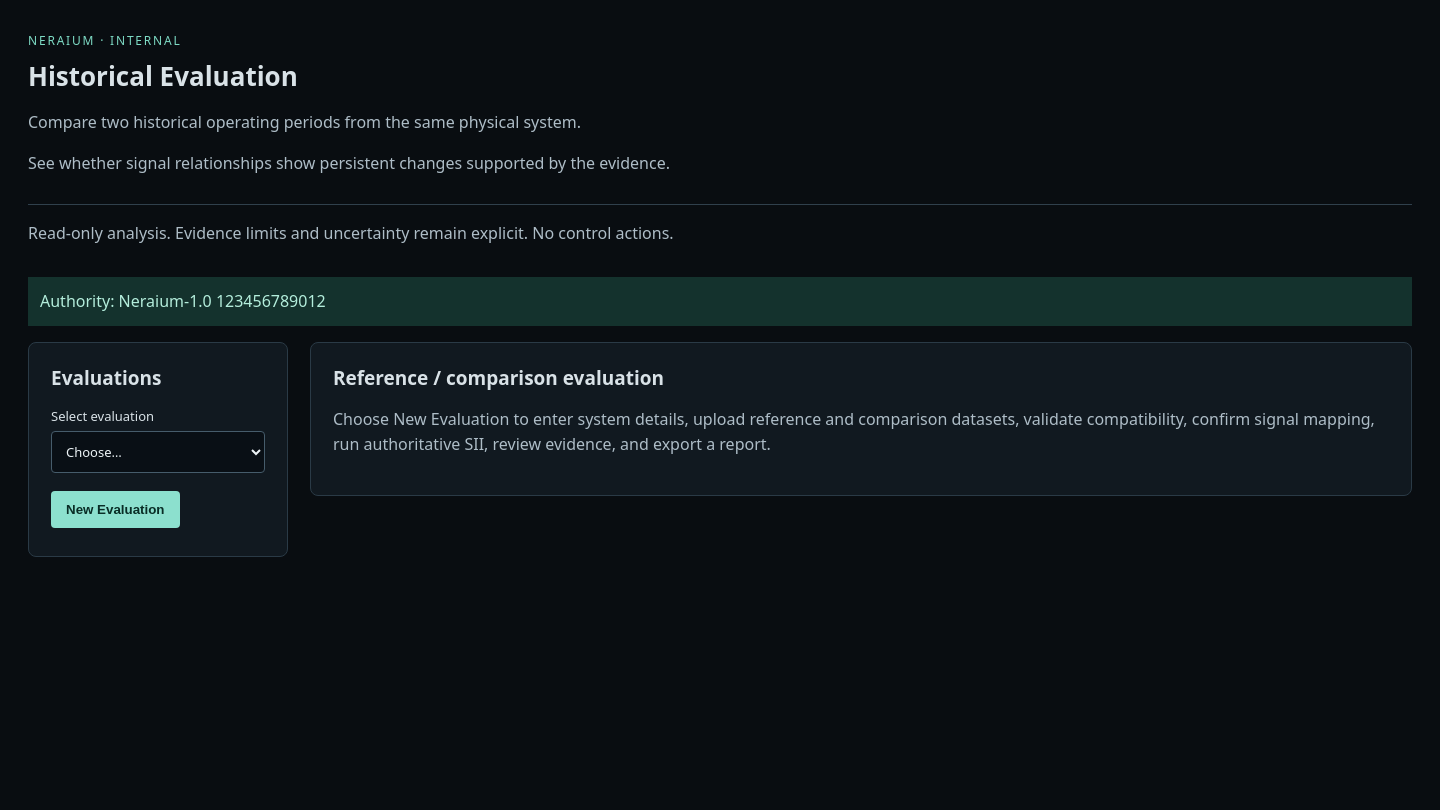
it: New Evaluation creates paired intake and preserves distinct upload roles
Later steps or results of the test are not shown.
Click the button "New Evaluation".
click(115, 510)  # box [51, 492, 180, 528]
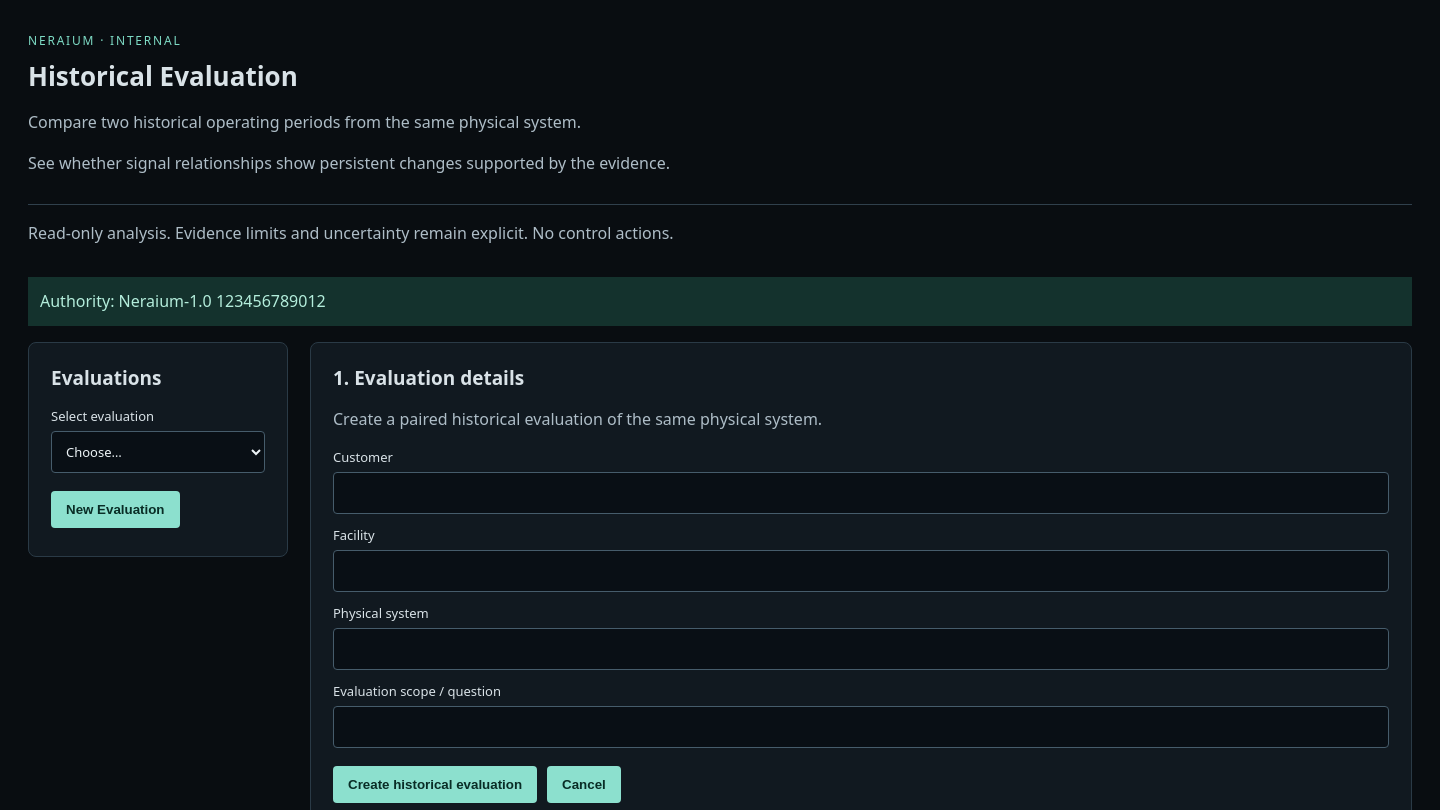
Now the heading "1. Evaluation details" is shown, box [333, 365, 524, 391]
Submit the form, box [333, 448, 1389, 809]
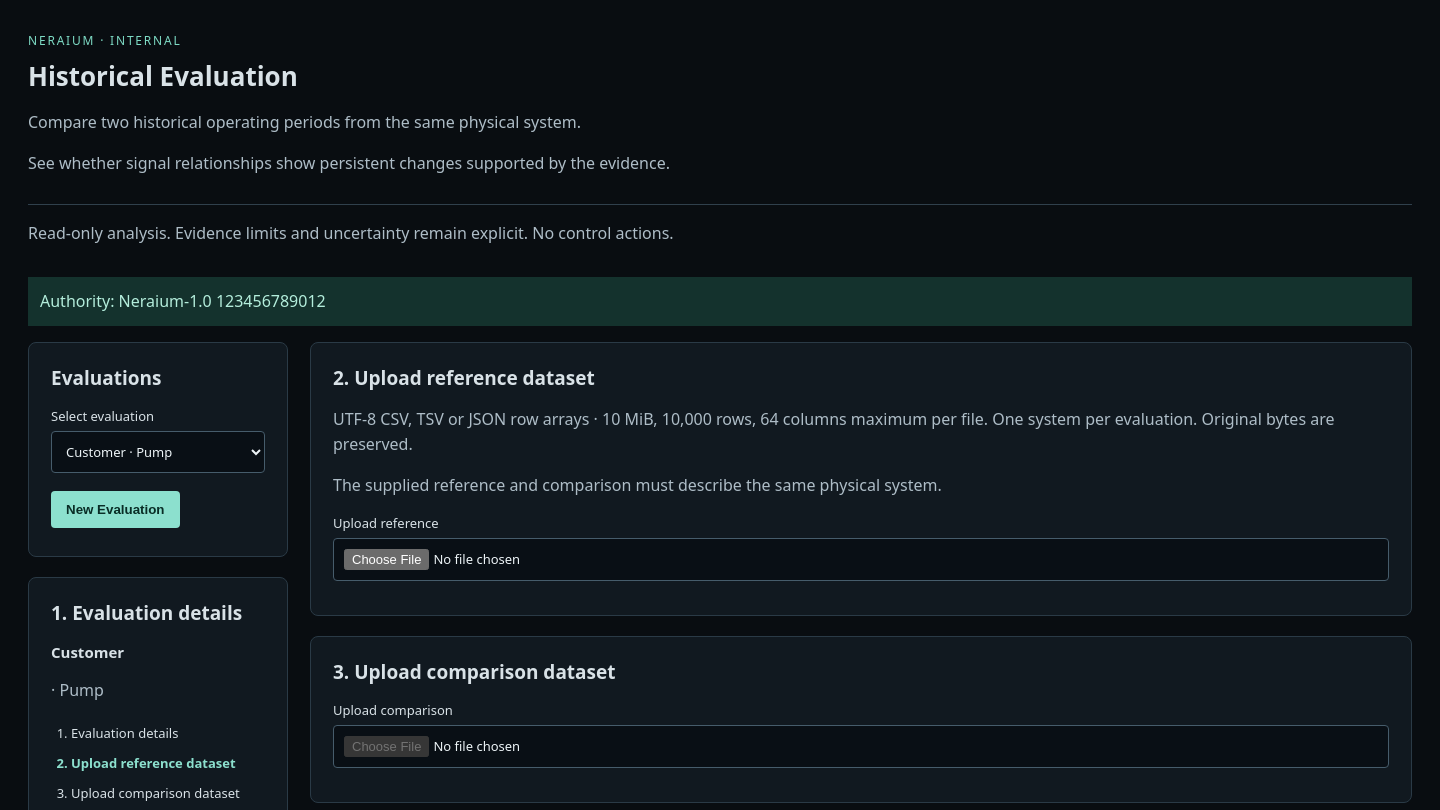
Now the file field labelled "Upload comparison" is disabled, box [333, 725, 1389, 768]
